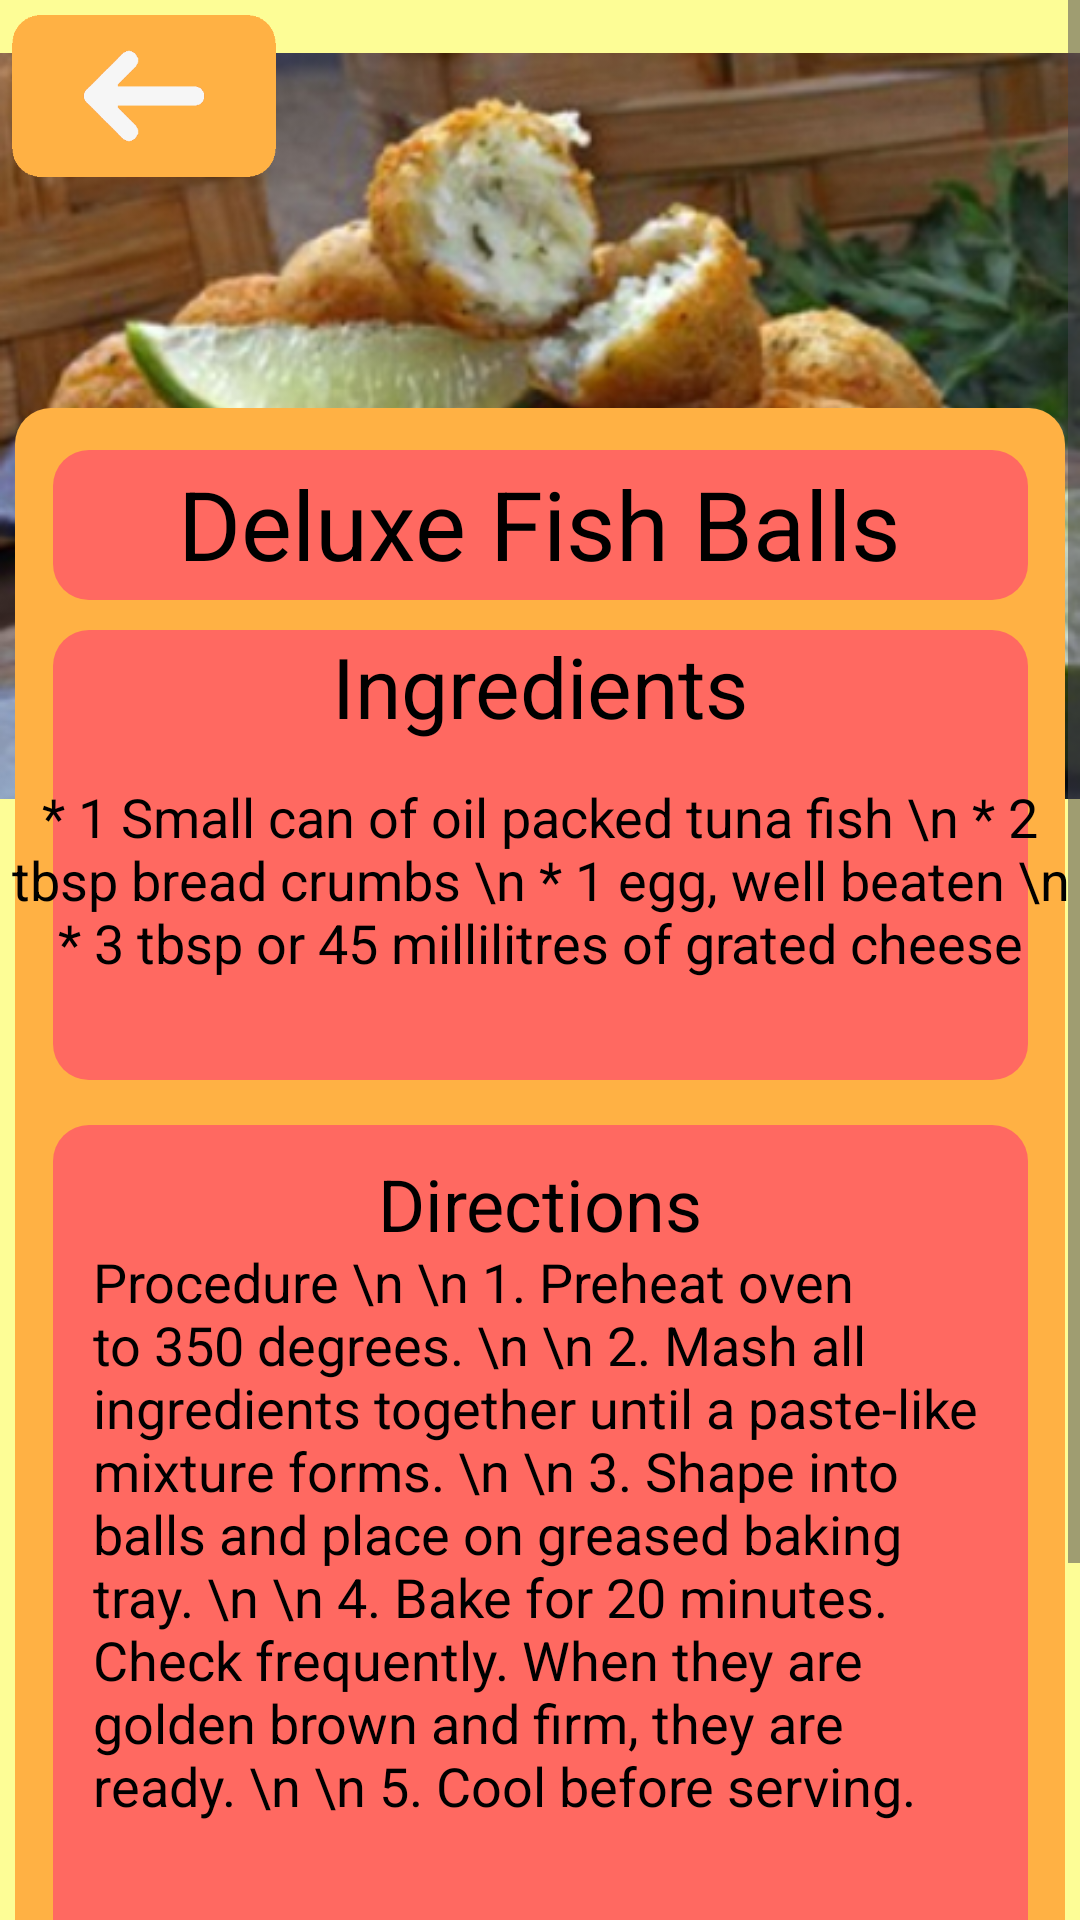

Icon click points for this 1080px×1920px phone screenshot, format (x,y):
backred: (144,96)
